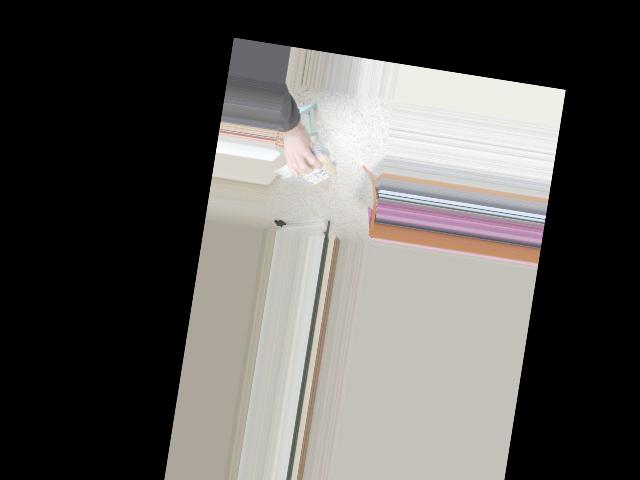cheese: (277, 150, 344, 187)
